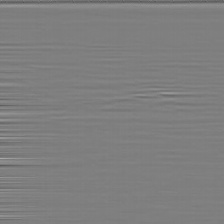cavities: (154, 47, 223, 114), (99, 81, 139, 106)
